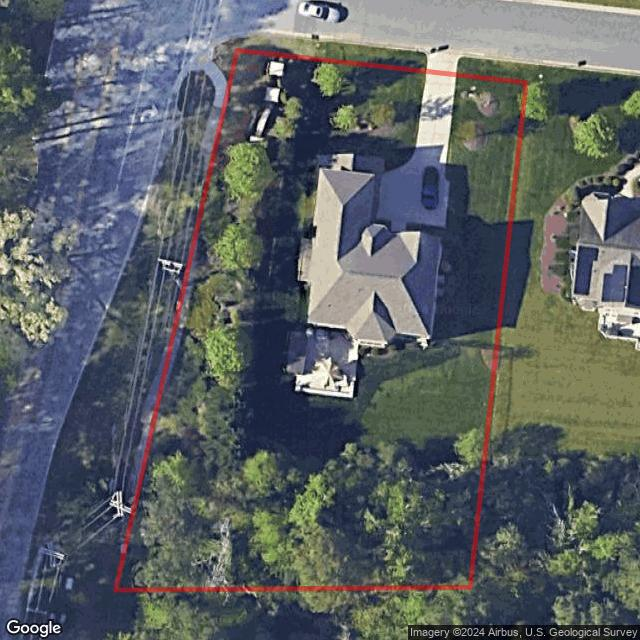Driveway: (370, 70, 457, 232)
Extra-Driveway: (426, 54, 460, 75)
Extra-Lawn: (236, 35, 428, 72), (456, 58, 530, 83)
House: (307, 167, 444, 349)
Lawn: (115, 49, 526, 589)
Other: (117, 55, 484, 590), (281, 325, 407, 399)
